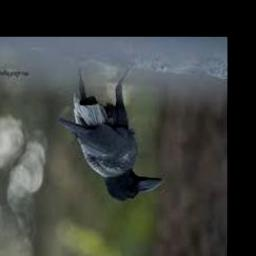Crow: (58, 64, 164, 202)
